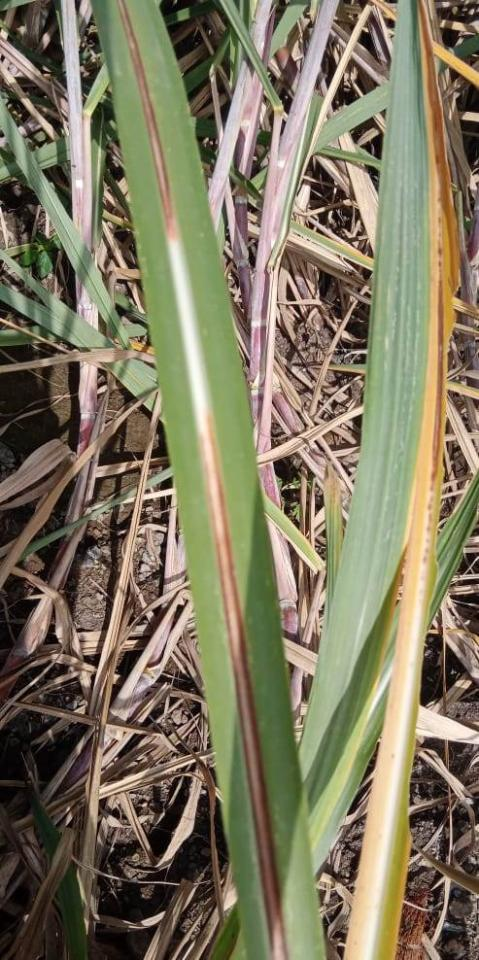RedRot: (199, 411, 290, 959), (117, 0, 178, 244)
Yellow: (347, 1, 458, 959)
